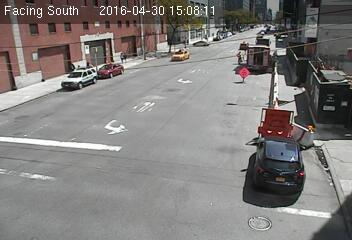neg: (277, 30, 300, 60), (261, 3, 278, 26), (249, 24, 262, 41), (256, 60, 268, 77)
pos: (233, 49, 246, 66), (113, 49, 125, 65)
